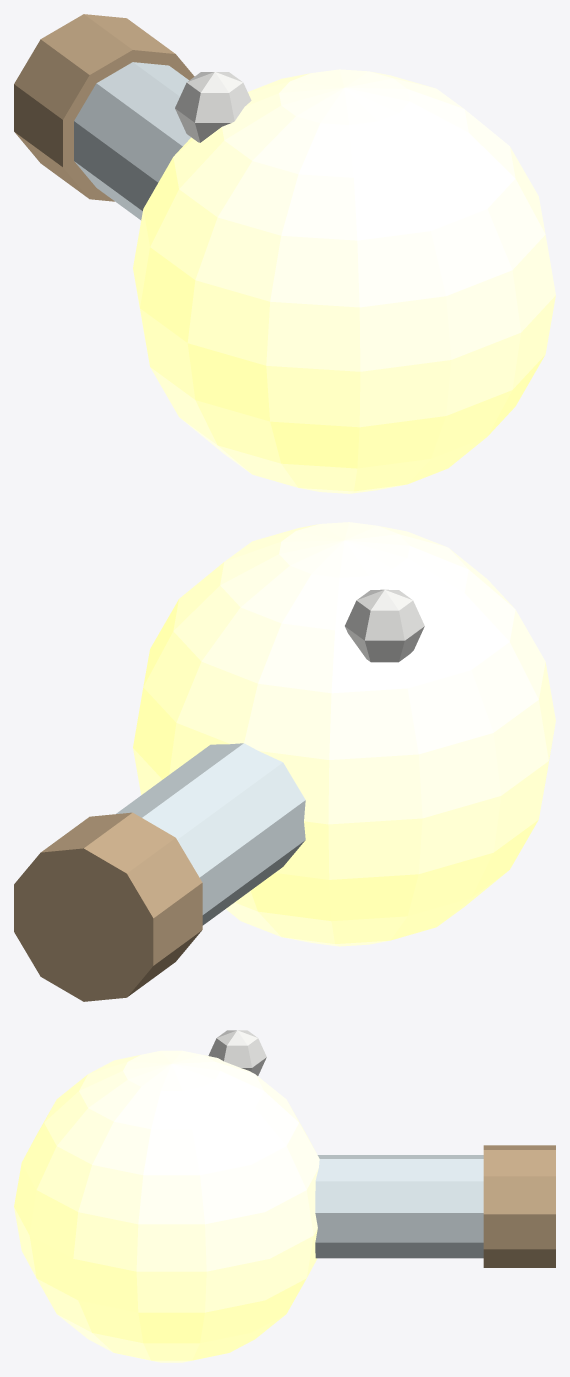
File: haste_held.gltf
3 renders of one model, top to bottom at view 1: azimuth 30°, elevation 25°; view 2: azimuth 150°, elevation 25°; view 3: azimuth 270°, elevation 25°, orthographic. The views are drawn at different scales.
Parts seen in each view (by area): view 1: alchemy_haste_held; view 2: alchemy_haste_held; view 3: alchemy_haste_held.
Boxes of the visible parts, box(x1,y1,x2,y2) form: alchemy_haste_held: box(14, 14, 555, 493); alchemy_haste_held: box(14, 522, 555, 1001); alchemy_haste_held: box(14, 1030, 555, 1362).
Bounding box in the file's own units: 0.0936 × 0.097 × 0.165.
